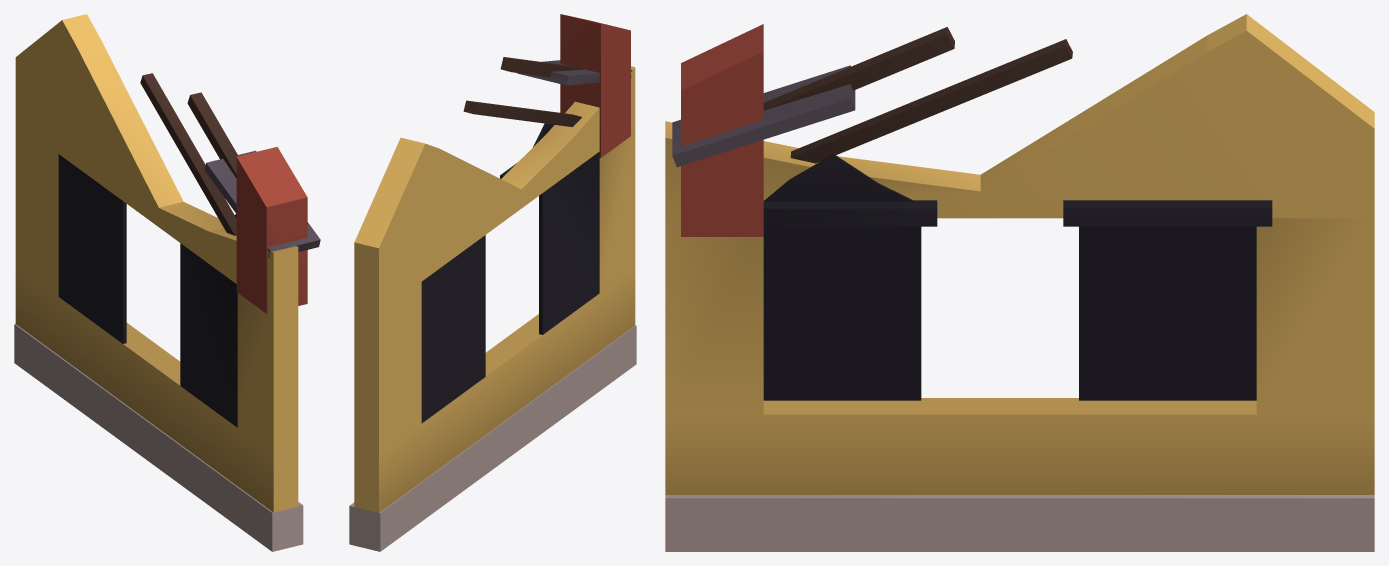
The picture shows the model from 3 angles, left to right: view 1: azimuth 30°, elevation 25°; view 2: azimuth 150°, elevation 25°; view 3: azimuth 270°, elevation 25°; orthographic projection. The views are drawn at different scales.
Parts seen in each view (by area): view 1: body_pal_mustardLight, body_pal_uiDark, body_pal_sidewalk, body_pal_brick, roof_pal_leather, roof_pal_asphalt; view 2: body_pal_mustardLight, body_pal_uiDark, body_pal_sidewalk, body_pal_brick, roof_pal_leather, roof_pal_asphalt; view 3: body_pal_mustardLight, body_pal_uiDark, body_pal_sidewalk, body_pal_brick, roof_pal_leather, roof_pal_asphalt.
Boxes of the visible parts, x1,y1,x2,y2 form: body_pal_mustardLight: [15, 14, 298, 512]; body_pal_uiDark: [58, 154, 237, 427]; body_pal_sidewalk: [14, 324, 303, 551]; body_pal_brick: [236, 146, 307, 313]; roof_pal_leather: [140, 73, 238, 235]; roof_pal_asphalt: [204, 150, 320, 258]; body_pal_mustardLight: [354, 66, 635, 512]; body_pal_uiDark: [421, 123, 599, 423]; body_pal_sidewalk: [349, 325, 636, 551]; body_pal_brick: [560, 14, 630, 157]; roof_pal_leather: [463, 57, 584, 126]; roof_pal_asphalt: [517, 60, 632, 85]; body_pal_mustardLight: [665, 14, 1374, 494]; body_pal_uiDark: [763, 154, 1272, 400]; body_pal_sidewalk: [665, 495, 1374, 551]; body_pal_brick: [681, 24, 763, 236]; roof_pal_leather: [763, 27, 1072, 163]; roof_pal_asphalt: [672, 65, 855, 167].
Bounding box in the file's own units: 0.41 × 2.9 × 3.6.
